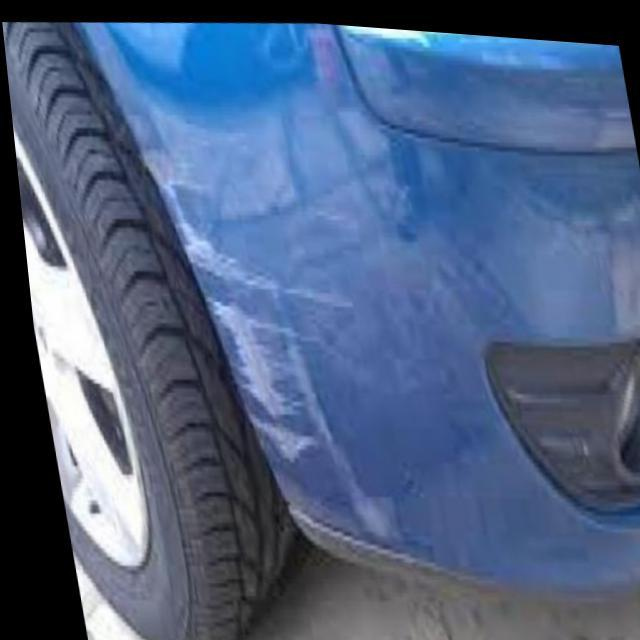rub: (153, 115, 384, 524)
